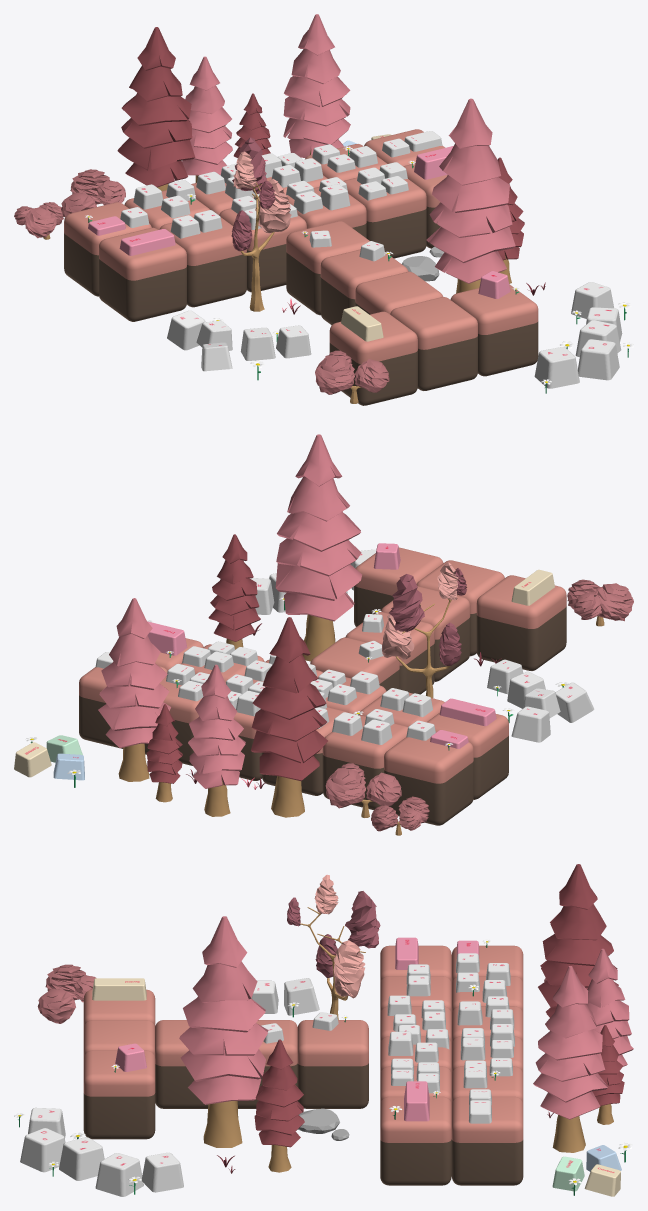
File: PopupBook_03_New_Right.fbx
3 renders of one model, top to bottom at view 1: azimuth 30°, elevation 25°; view 2: azimuth 150°, elevation 25°; view 3: azimuth 270°, elevation 25°, orthographic. The views are drawn at different scales.
Parts seen in each view (by area): view 1: Ch03_Right.001; view 2: Ch03_Right.001; view 3: Ch03_Right.001.
Boxes of the visible parts, x1=… form: Ch03_Right.001: x1=14, y1=14, x2=633, y2=405; Ch03_Right.001: x1=14, y1=434, x2=633, y2=835; Ch03_Right.001: x1=14, y1=864, x2=633, y2=1196.
Bounding box in the file's own units: 140 × 75.17 × 185.
